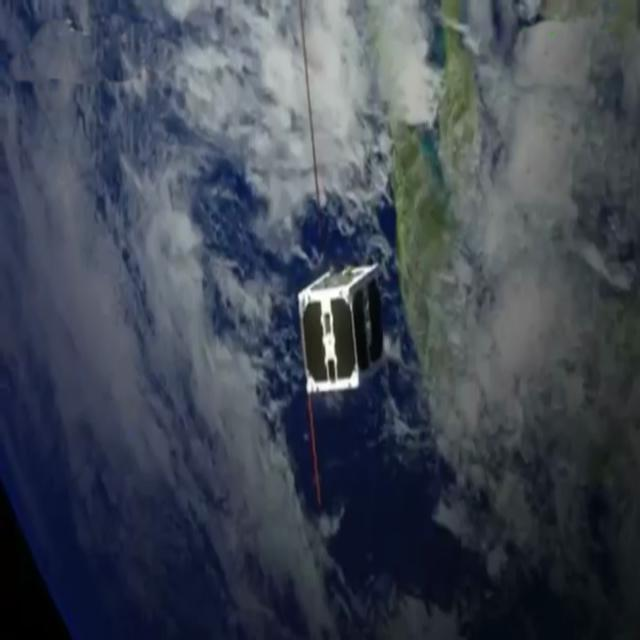sat: (275, 231, 407, 411)
